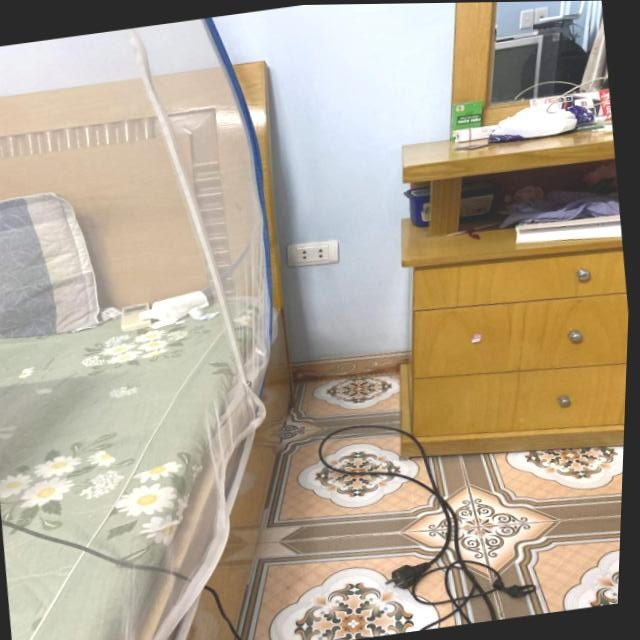outlet: (286, 237, 342, 269)
